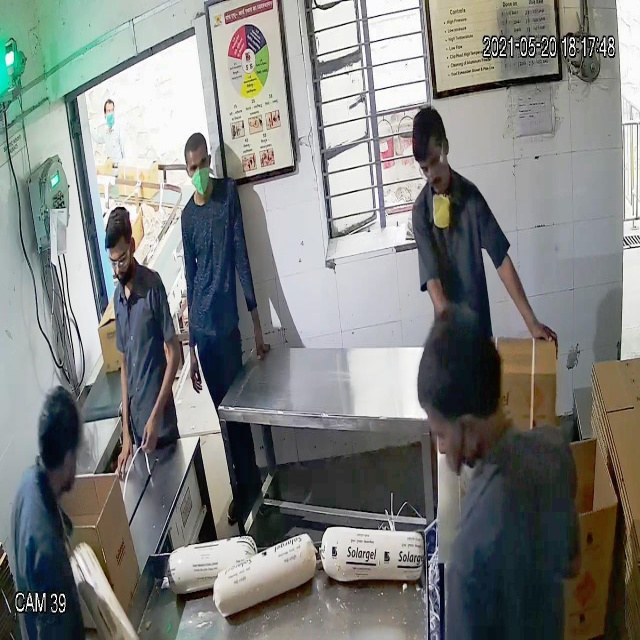Gafas: (414, 148, 450, 177), (104, 244, 134, 275)
Sin_gafas: (181, 151, 216, 180)
